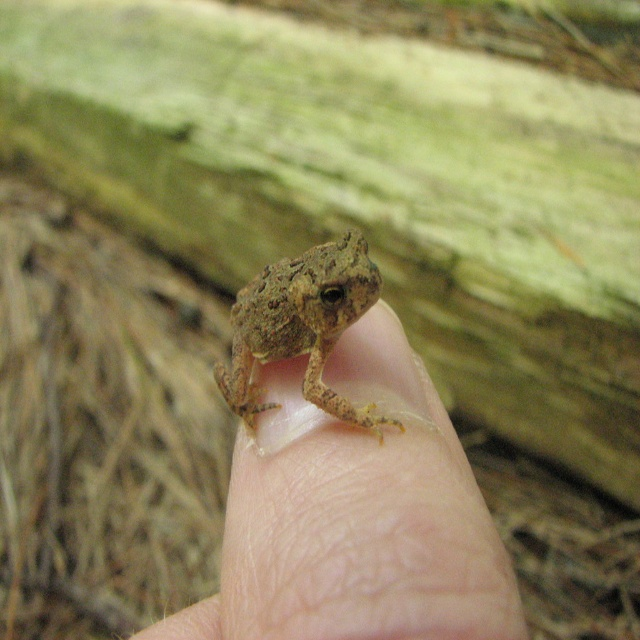Frog: (212, 225, 407, 446)
